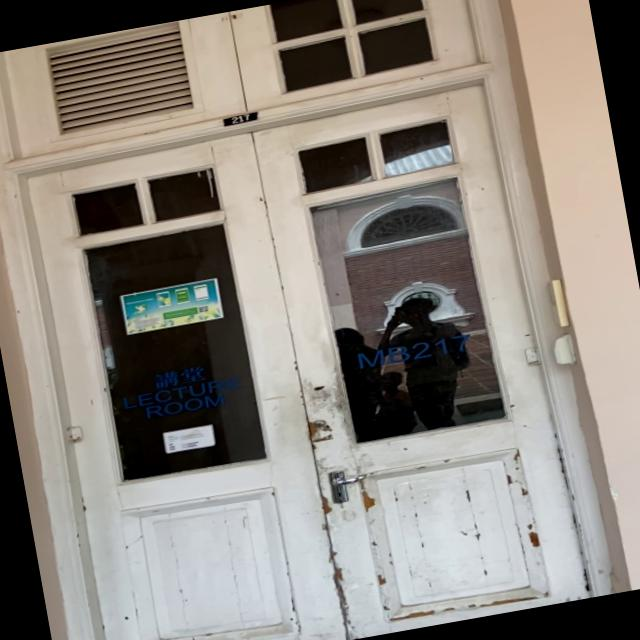room217: (220, 110, 260, 128)
room217Window: (351, 329, 478, 374)
